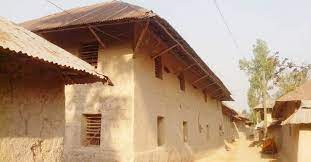Mud House: (26, 2, 238, 162)
